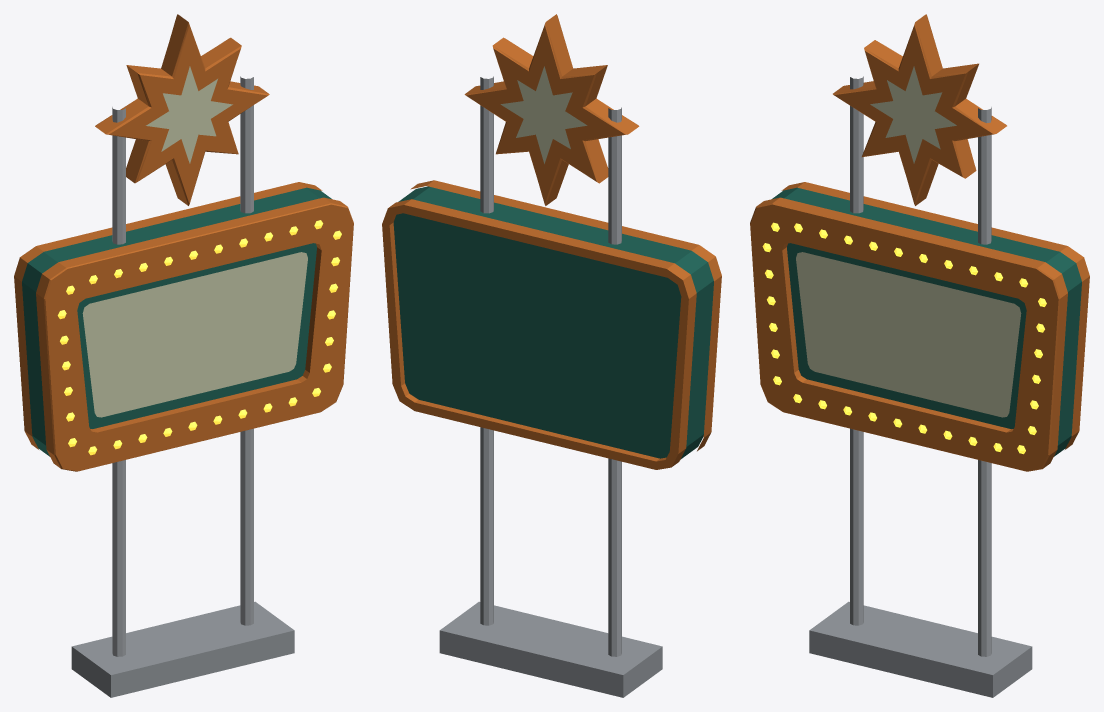
File: motel-sign-21033b.glb
The picture shows the model from 3 angles, left to right: view 1: azimuth 30°, elevation 25°; view 2: azimuth 150°, elevation 25°; view 3: azimuth 330°, elevation 25°; orthographic projection.
Parts seen in each view (by area): view 1: motel-sign, bulbs; view 2: motel-sign; view 3: motel-sign, bulbs.
Boxes of the visible parts, bbox=[...] form: motel-sign: bbox=[14, 14, 353, 697]; bulbs: bbox=[57, 220, 341, 455]; motel-sign: bbox=[382, 14, 721, 697]; motel-sign: bbox=[750, 14, 1089, 697]; bulbs: bbox=[762, 222, 1046, 454].
Bounding box in the file's own units: 2.28 × 4.52 × 0.5.
